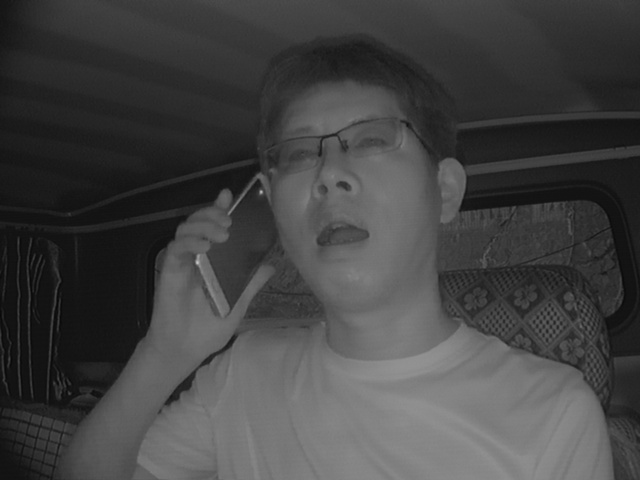hand: (150, 190, 262, 359)
